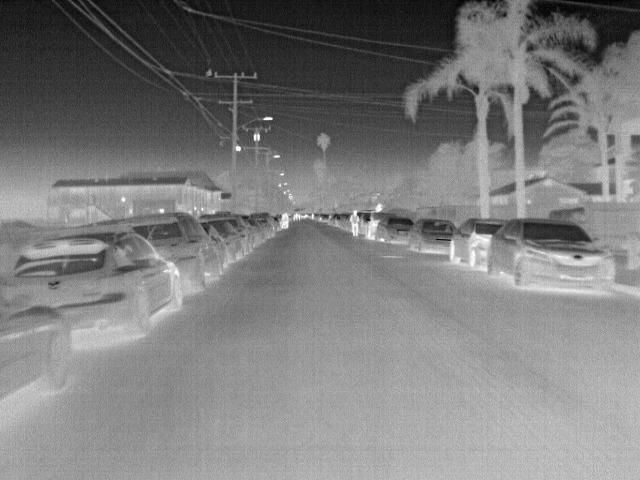car: (10, 225, 183, 344), (488, 218, 620, 297), (113, 214, 224, 294), (3, 292, 75, 407), (450, 219, 513, 271), (407, 219, 458, 256), (211, 220, 244, 260), (377, 218, 412, 246), (365, 211, 391, 237), (249, 214, 273, 239), (243, 220, 264, 246), (258, 214, 279, 234), (332, 212, 346, 226), (321, 213, 333, 224)
person: (348, 209, 360, 237), (278, 212, 290, 230)
